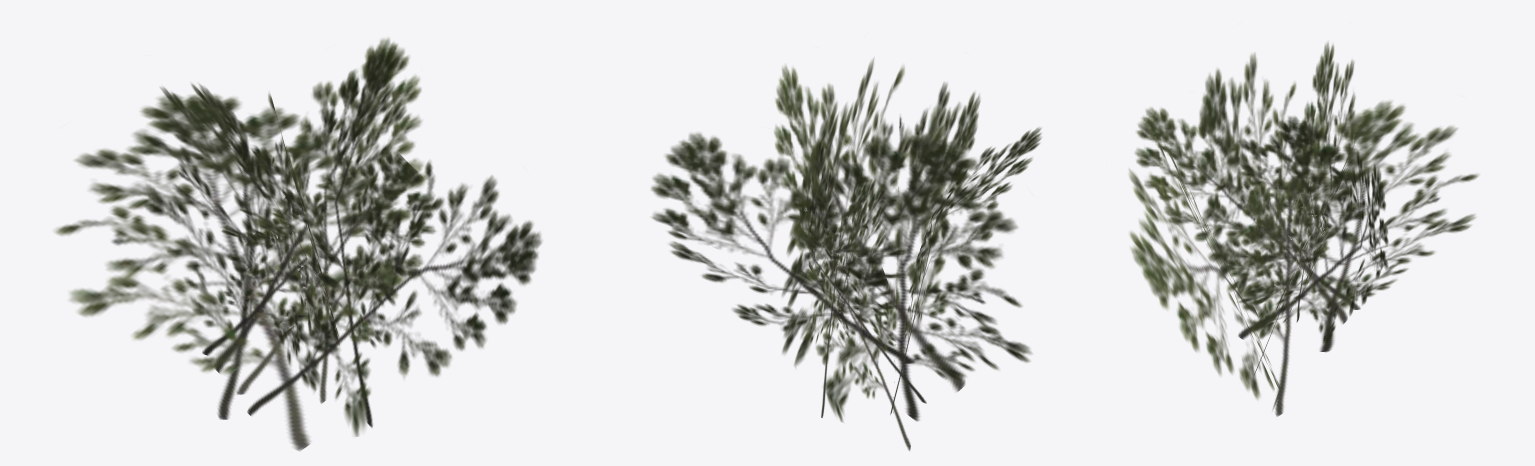
The model's file is distant-tree-12.glb.
3 renders of one model, left to right at view 1: azimuth 30°, elevation 25°; view 2: azimuth 150°, elevation 25°; view 3: azimuth 270°, elevation 25°, orthographic. The views are drawn at different scales.
Visible parts, largest first — view 1: Background_Tree_Atlas.012; view 2: Background_Tree_Atlas.012; view 3: Background_Tree_Atlas.012.
Boxes of the visible parts, <box> form: Background_Tree_Atlas.012: <box>55,38,541,450</box>; Background_Tree_Atlas.012: <box>651,58,1041,450</box>; Background_Tree_Atlas.012: <box>1129,42,1478,416</box>.
Size of the model in its own units: 314 by 258 by 279.
Materials: 1 (1 with a texture image).
